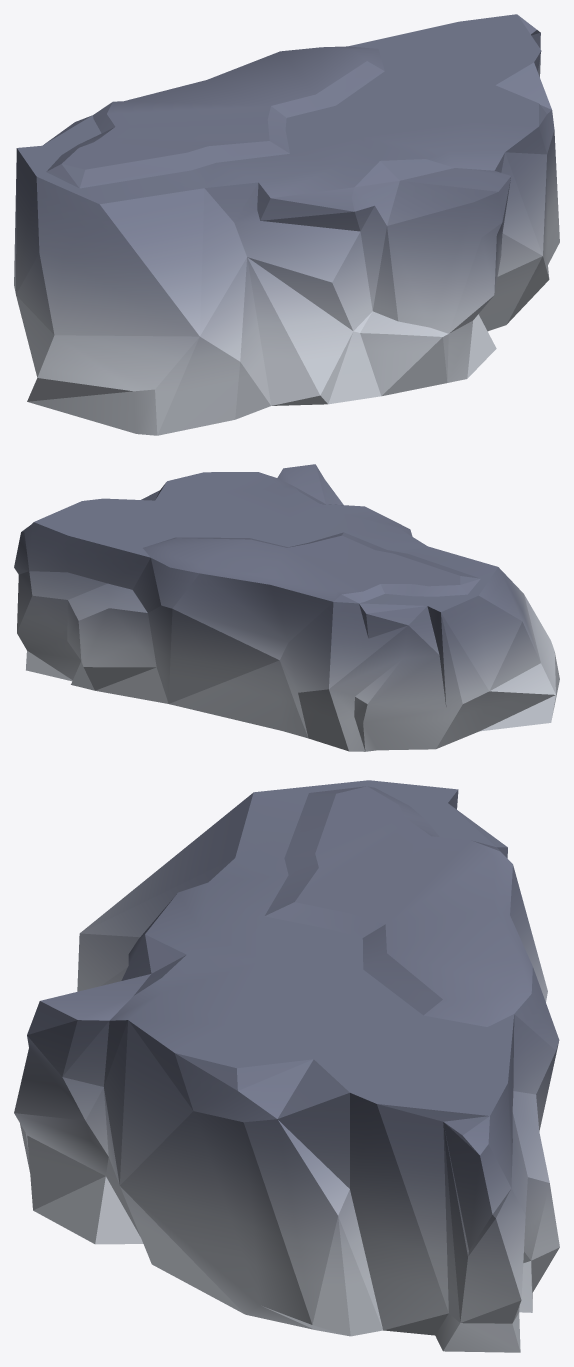
The model's file is Terrain_Stage2_Mountain_11.fbx.
The picture shows the model from 3 angles, top to bottom: view 1: azimuth 30°, elevation 25°; view 2: azimuth 150°, elevation 25°; view 3: azimuth 270°, elevation 25°; orthographic projection. The views are drawn at different scales.
Parts seen in each view (by area): view 1: terrain_wall_403_LOD0; view 2: terrain_wall_403_LOD0; view 3: terrain_wall_403_LOD0.
Boxes of the visible parts, x1=… form: terrain_wall_403_LOD0: x1=14, y1=14, x2=559, y2=435; terrain_wall_403_LOD0: x1=14, y1=464, x2=559, y2=751; terrain_wall_403_LOD0: x1=14, y1=780, x2=559, y2=1352.
Bounding box in the file's own units: 2906 × 882 × 1746.
1 material, 1 textured.
